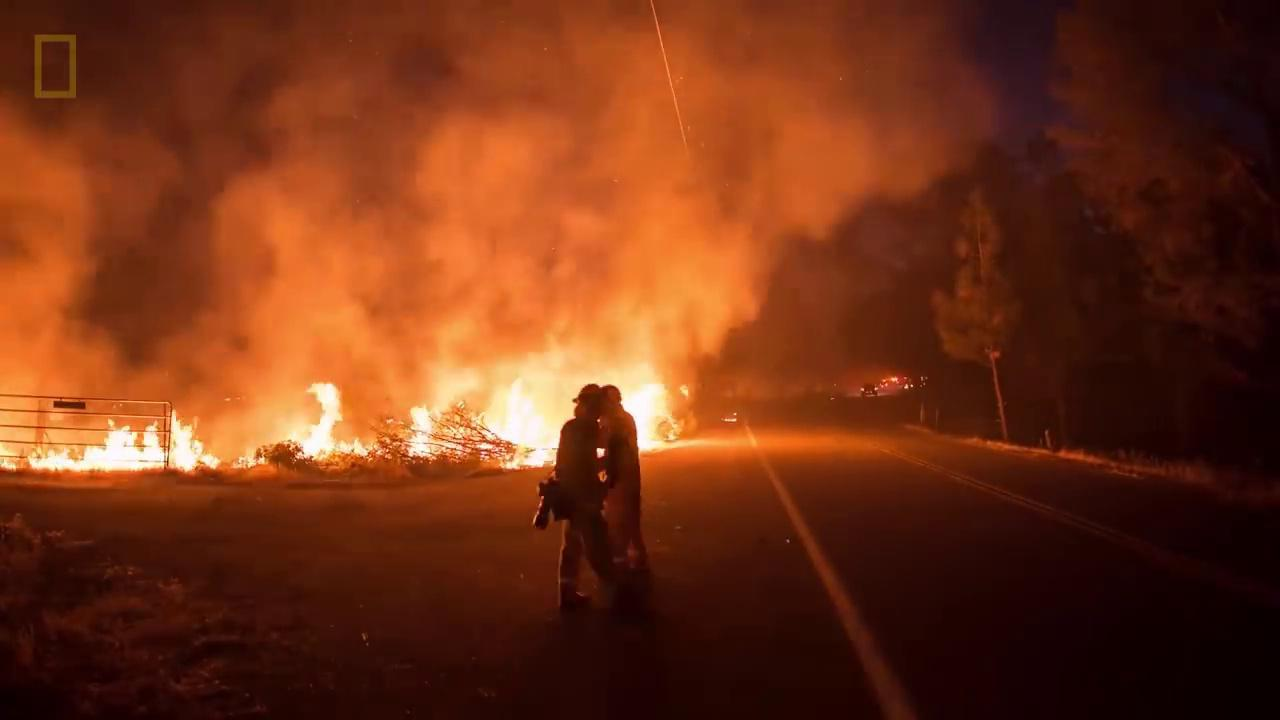Fire: (406, 344, 574, 473), (28, 412, 224, 475), (293, 378, 375, 464), (632, 375, 684, 452)
